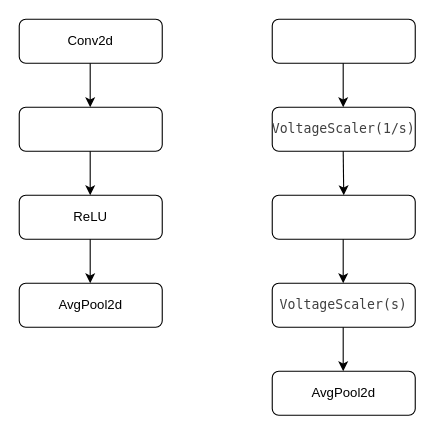
Some shapes in this 448 by 435 pixel diagram are drawn without their labels. The shapes that lost their labels are listed below. From the top down, each one's box as (x1, y1, x2, y2) in pixels, then its label:
(271, 18, 415, 63): Conv2dwith BN
(18, 106, 162, 151): BN2d
(271, 194, 415, 239): IF
